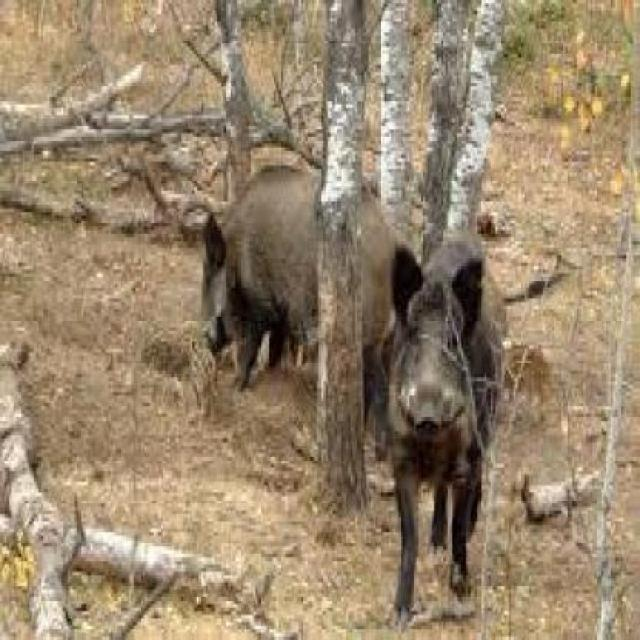wildboar: (198, 155, 402, 407), (387, 242, 493, 626), (496, 340, 552, 420)
